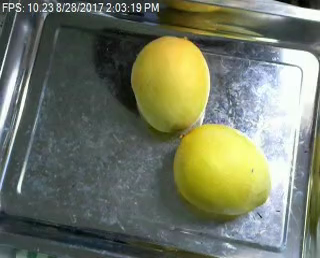Mango: (164, 120, 281, 214), (120, 26, 216, 131)
